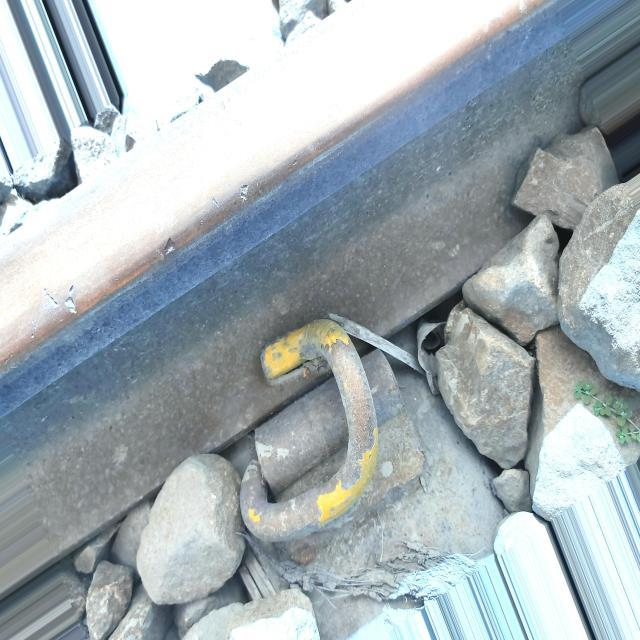squats_high: (38, 283, 78, 321), (236, 179, 252, 210), (162, 234, 176, 261), (209, 195, 223, 211)
